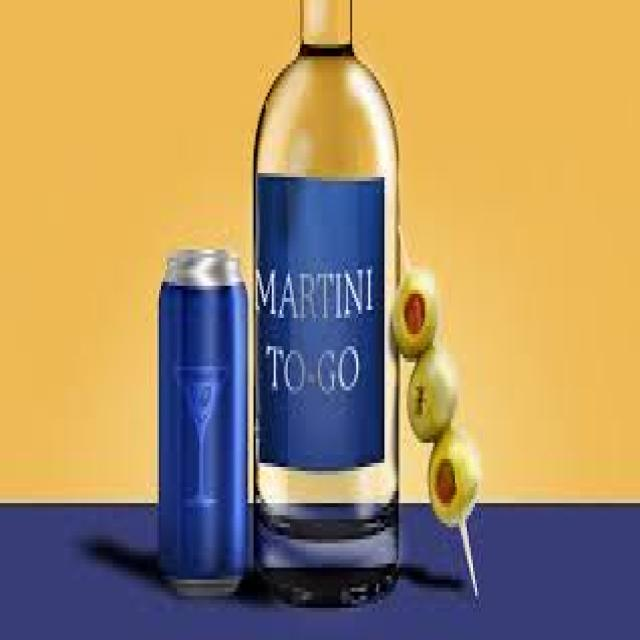Cans: (145, 229, 262, 600)
